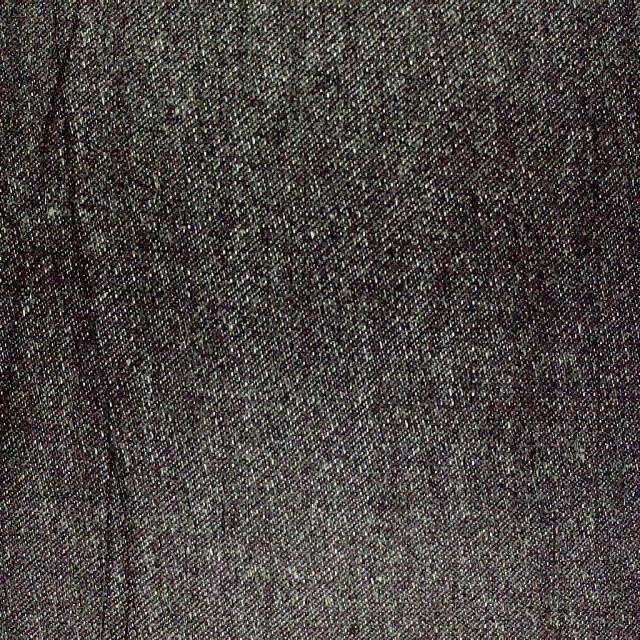defect: (61, 125, 139, 484), (26, 0, 95, 212)
